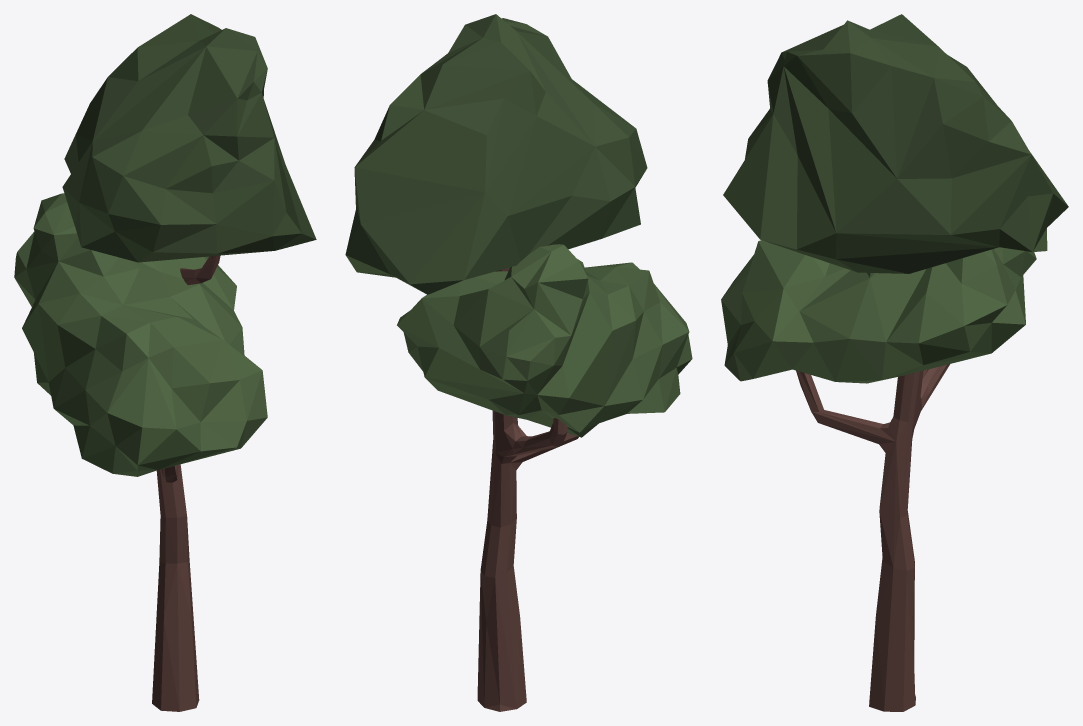
File: CommonTree_3_far.glb
The picture shows the model from 3 angles, left to right: view 1: azimuth 30°, elevation 25°; view 2: azimuth 150°, elevation 25°; view 3: azimuth 270°, elevation 25°; orthographic projection. The views are drawn at different scales.
Parts seen in each view (by area): view 1: CommonTree_3; view 2: CommonTree_3; view 3: CommonTree_3.
Boxes of the visible parts, x1,y1,x2,y2 form: CommonTree_3: (14, 14, 316, 711); CommonTree_3: (345, 14, 692, 711); CommonTree_3: (721, 14, 1068, 711).
Size of the model in its own units: 1.28 by 3.45 by 1.56.
